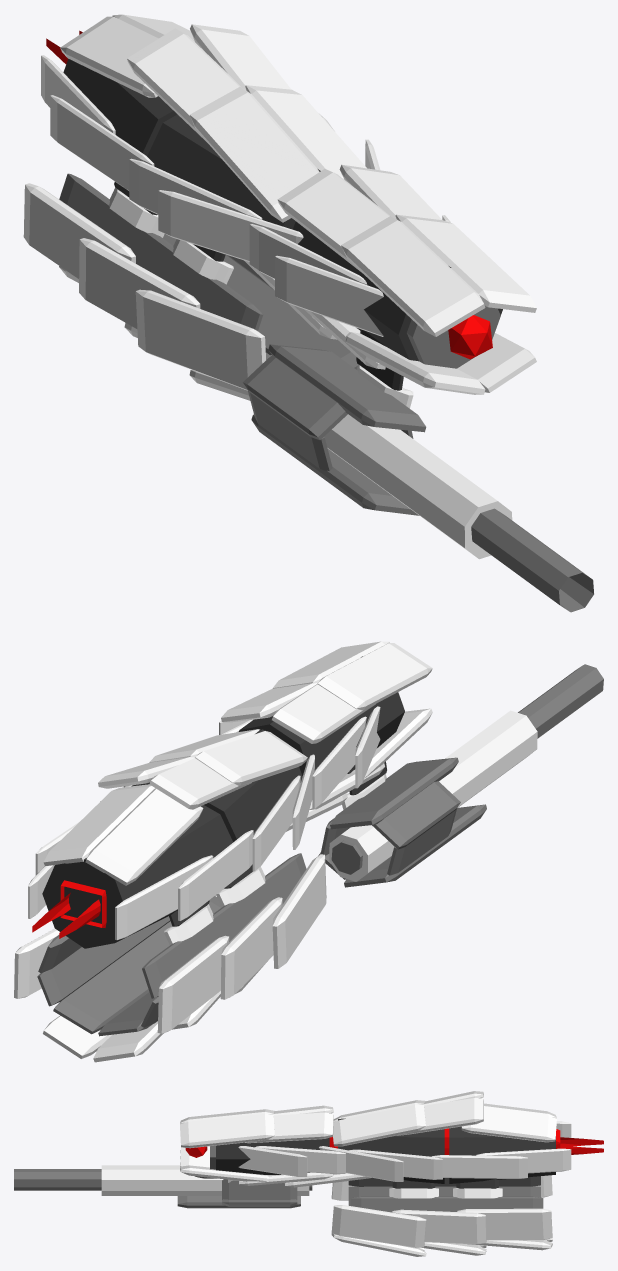
File: zalek_drone_subcarrier.gltf
3 views of the same model, one above another, from view 1: azimuth 30°, elevation 25°; view 2: azimuth 150°, elevation 25°; view 3: azimuth 270°, elevation 25° (orthographic). The views are drawn at different scales.
Parts seen in each view (by area): view 1: Cylinder.004, Cube.002, Cube.019, Cube.059, Cube.041, Cube.018, Cylinder, Cube.207, Cube.003, Cylinder.005, Cube.032, Cube.058 (+26 smaller); view 2: Cylinder.006, Cylinder.004, Cube.046, Cube.006, Cube.041, Cube.002, Cylinder, Cube.019, Cube.060, Cube.207, Cube.059, Cube.005 (+31 smaller); view 3: Cylinder.004, Cube.056, Cube.168, Cube.021, Cube.043, Cube.057, Cube.005, Cube.055, Cylinder.006, Cube.037, Cylinder, Cylinder.005 (+31 smaller).
Part boxes in pixels (box(x1,y1,x2,y2)): Cylinder.004: box(270, 355, 512, 559); Cube.002: box(341, 216, 485, 336); Cube.019: box(190, 86, 319, 222); Cube.059: box(135, 289, 265, 390); Cube.041: box(59, 173, 262, 330); Cube.018: box(127, 28, 240, 141); Cylinder: box(471, 508, 593, 612); Cube.207: box(268, 344, 426, 432); Cube.003: box(277, 169, 389, 273); Cylinder.005: box(147, 114, 320, 229); Cube.032: box(158, 190, 303, 261); Cube.058: box(79, 238, 200, 328); Cylinder.006: box(42, 805, 233, 948); Cylinder.004: box(329, 710, 537, 881); Cube.046: box(53, 896, 221, 1036); Cube.006: box(85, 788, 203, 885); Cube.041: box(142, 853, 306, 998); Cube.002: box(317, 643, 432, 710); Cylinder: box(331, 664, 603, 874); Cube.019: box(195, 731, 307, 785); Cube.060: box(157, 935, 229, 1033); Cube.207: box(330, 757, 458, 829); Cube.059: box(272, 854, 326, 968); Cube.005: box(43, 784, 155, 866); Cylinder.004: box(101, 1165, 309, 1195); Cube.056: box(331, 1205, 426, 1247); Cube.168: box(180, 1114, 274, 1148); Cube.021: box(333, 1105, 425, 1146); Cube.043: box(351, 1196, 543, 1212); Cube.057: box(457, 1208, 552, 1240); Cube.005: box(461, 1108, 556, 1142); Cube.055: box(392, 1209, 486, 1244); Cylinder.006: box(449, 1126, 555, 1183); Cube.037: box(432, 1155, 527, 1178); Cylinder: box(14, 1169, 312, 1190); Cylinder.005: box(338, 1118, 444, 1183).
Size of the model in its own units: 3.84 by 4.91 by 16.69.
